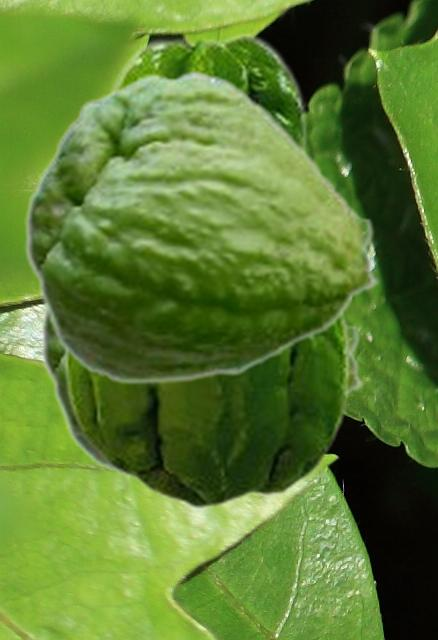sayote: (63, 31, 349, 509), (24, 69, 381, 385), (40, 304, 366, 478)
